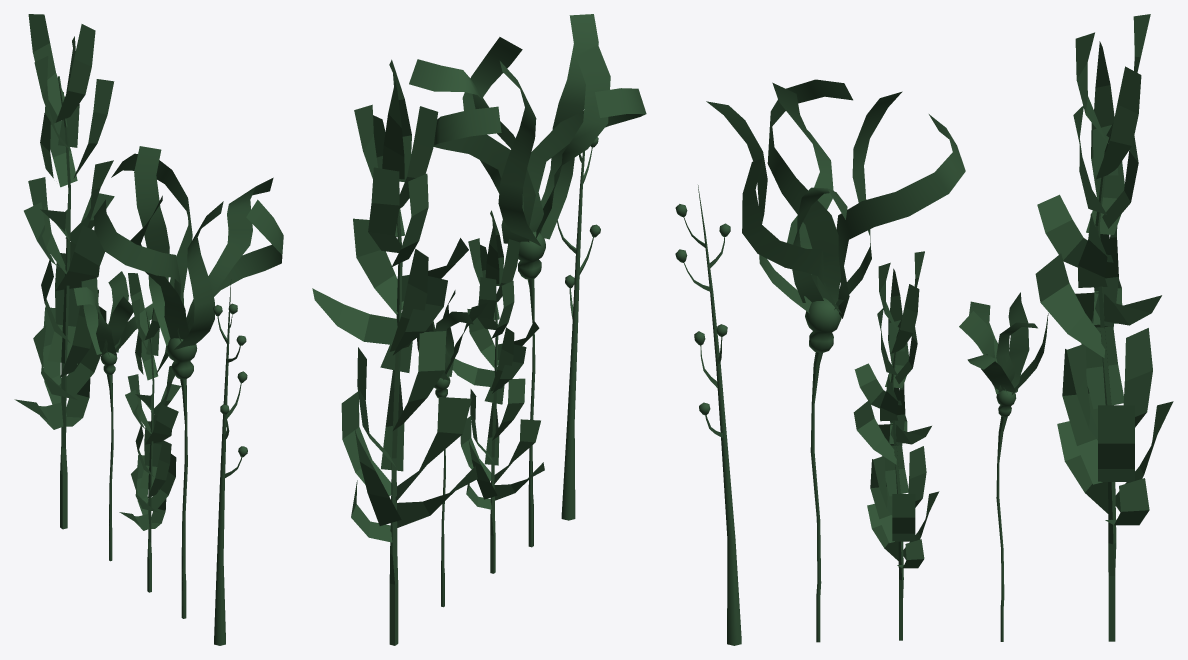
File: PlaceholderKelps.fbx
3 views of the same model, side by side, from view 1: azimuth 30°, elevation 25°; view 2: azimuth 150°, elevation 25°; view 3: azimuth 270°, elevation 25° (orthographic). The views are drawn at different scales.
Parts seen in each view (by area): view 1: Kelp5, Kelp4, Kelp1, Kelp3, Kelp2; view 2: Kelp5, Kelp4, Kelp1, Kelp2, Kelp3; view 3: Kelp5, Kelp4, Kelp1, Kelp3, Kelp2.
Boxes of the visible parts, x1,y1,x2,y2 form: Kelp5: (14, 14, 114, 529); Kelp4: (93, 146, 283, 618); Kelp1: (119, 273, 181, 592); Kelp3: (74, 271, 153, 561); Kelp2: (213, 279, 247, 645); Kelp5: (312, 59, 477, 645); Kelp4: (409, 14, 646, 547); Kelp1: (452, 210, 544, 573); Kelp2: (557, 137, 600, 520); Kelp3: (417, 290, 487, 607); Kelp5: (1035, 14, 1173, 641); Kelp4: (706, 79, 965, 642); Kelp1: (853, 251, 939, 640); Kelp3: (959, 292, 1048, 641); Kelp2: (675, 185, 741, 645).
Bounding box in the file's own units: 10.06 × 26.1 × 19.02.
